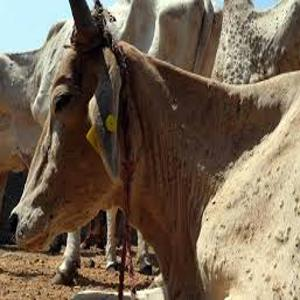lumpy skin diesease: (1, 0, 215, 285), (85, 38, 299, 299)
